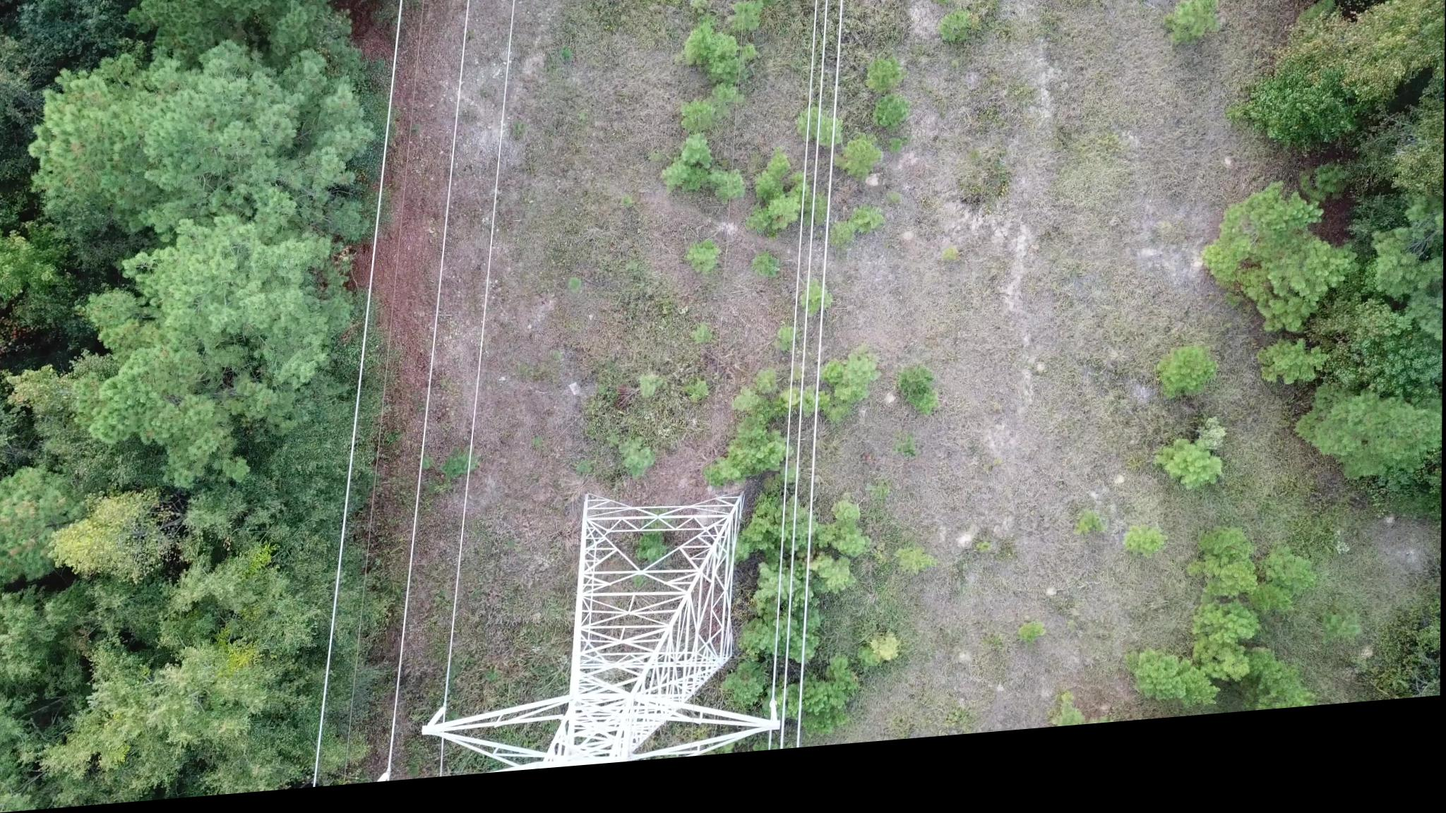tower: (420, 477, 784, 778)
